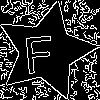F: (21, 26, 56, 75)
